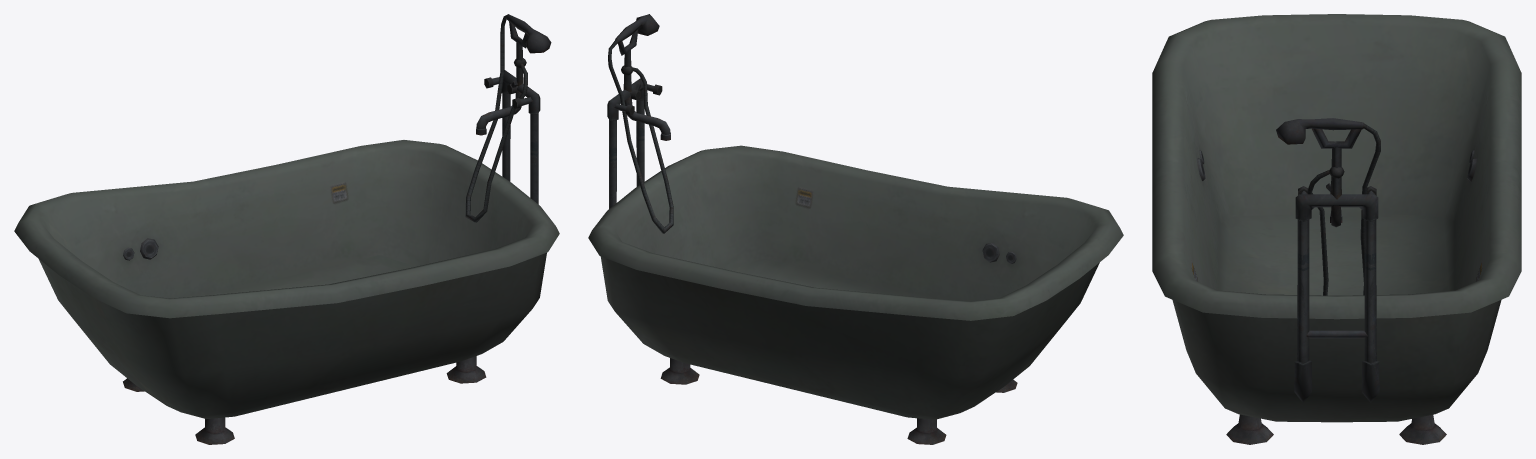
Rendered from Bathtub.FBX.
The picture shows the model from 3 angles, left to right: view 1: azimuth 30°, elevation 25°; view 2: azimuth 150°, elevation 25°; view 3: azimuth 270°, elevation 25°; orthographic projection. The views are drawn at different scales.
Parts seen in each view (by area): view 1: Bathtub; view 2: Bathtub; view 3: Bathtub.
Part boxes in pixels (x1,y1,x2,y2): Bathtub: (14, 14, 559, 444); Bathtub: (588, 14, 1123, 444); Bathtub: (1152, 14, 1521, 444).
Size of the model in its own units: 2.29 by 1.43 by 1.3.
1 material, 1 textured.
